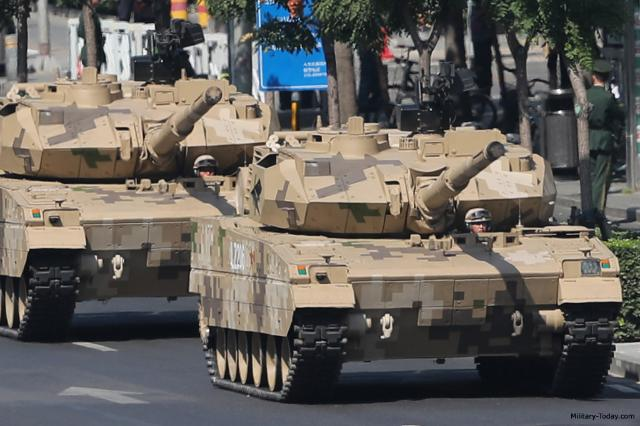tank: (197, 123, 617, 404), (0, 67, 254, 347)
